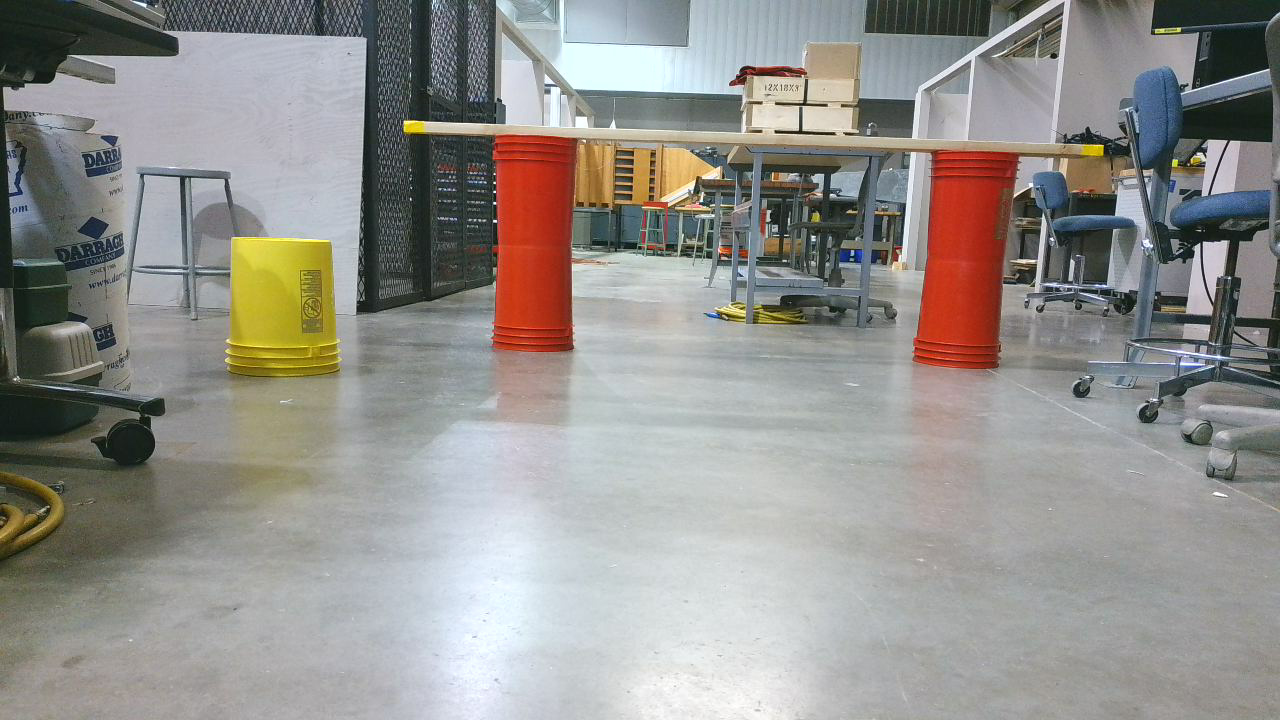red_bucket_arch: (406, 121, 1104, 375)
yellow_bucket: (231, 237, 350, 385)
